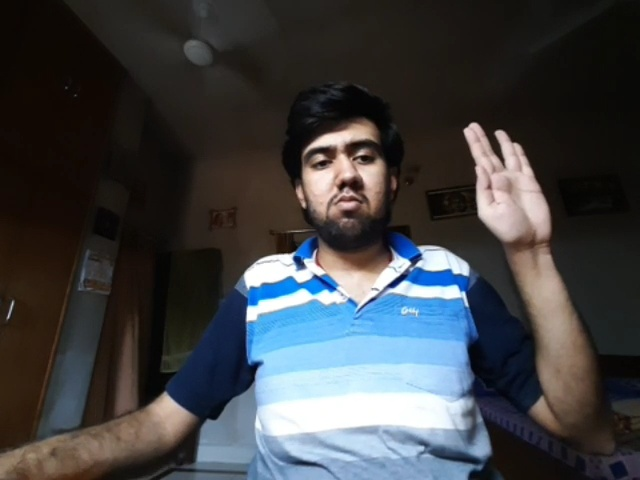LiveLong: (462, 121, 553, 244)
